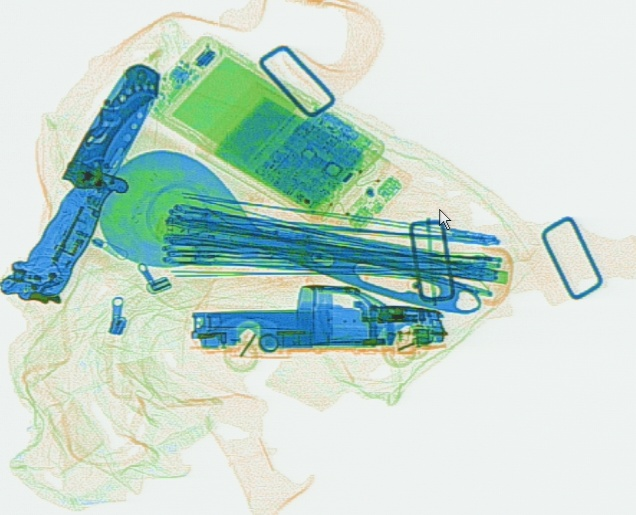knife: (1, 70, 158, 316), (57, 60, 161, 194)
